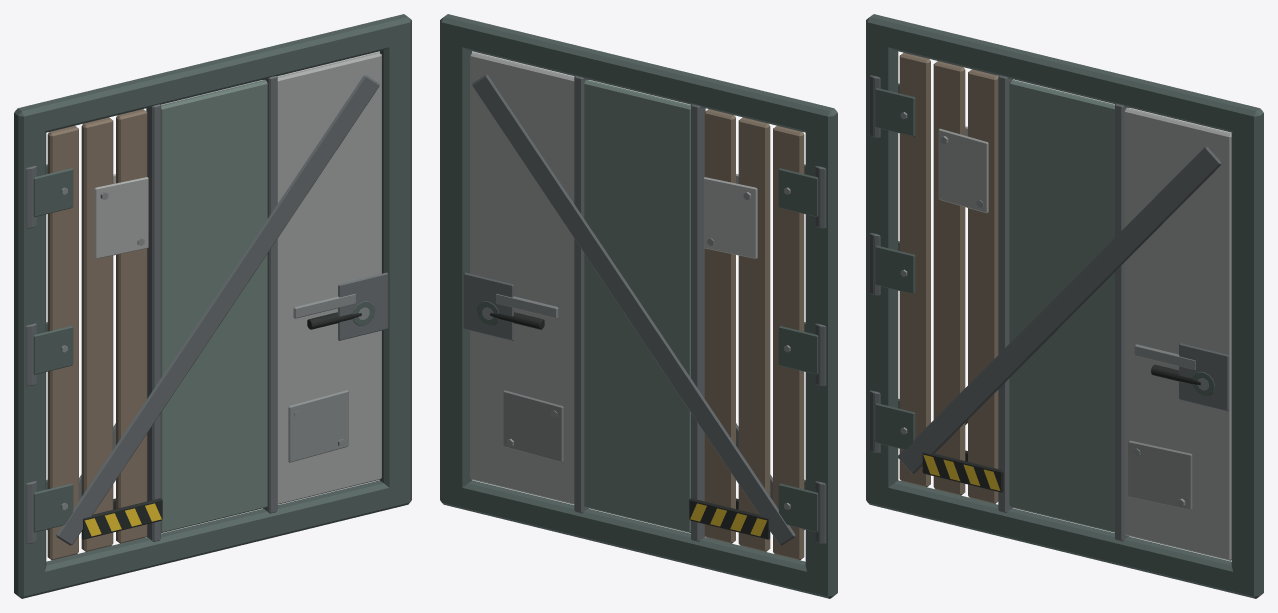
File: door.glb
3 renders of one model, left to right at view 1: azimuth 30°, elevation 25°; view 2: azimuth 150°, elevation 25°; view 3: azimuth 330°, elevation 25°, orthographic.
Visible parts, largest first — view 1: door; view 2: door; view 3: door.
Part boxes in pixels (x1,y1,x2,y2): door: [14, 14, 411, 598]; door: [440, 14, 837, 598]; door: [866, 14, 1263, 598].
Size of the model in its own units: 1.96 by 2.32 by 0.118.
